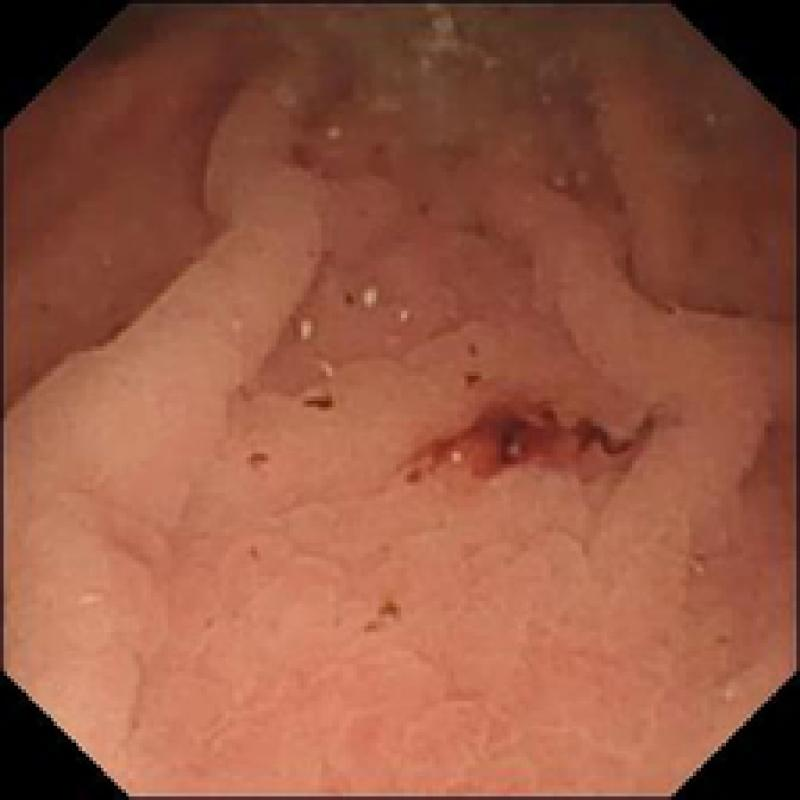bleeding: (389, 389, 668, 482)
